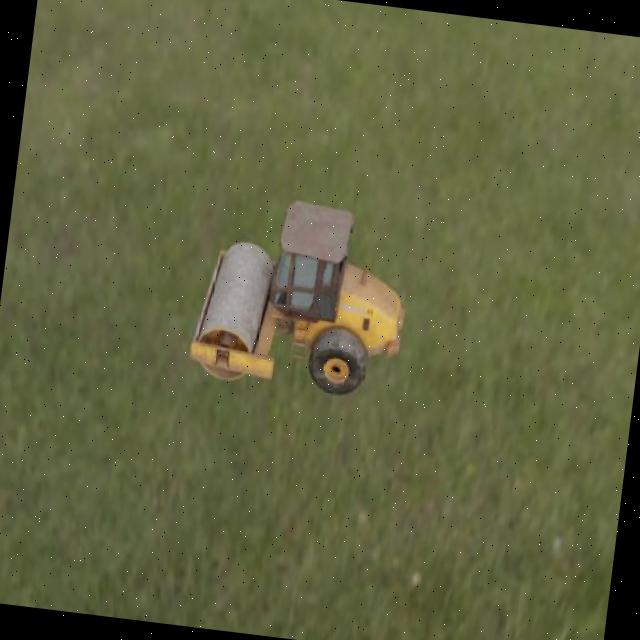Roller: (186, 188, 417, 402)
